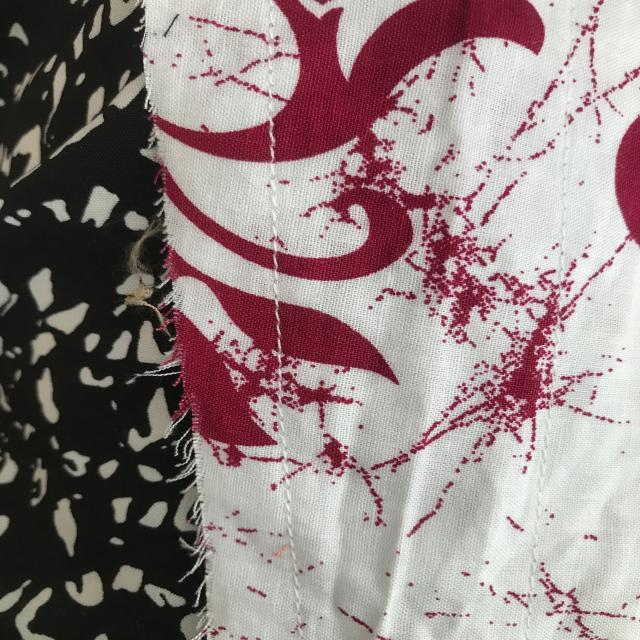good: (256, 275, 303, 447), (272, 499, 322, 617), (523, 449, 563, 544)
